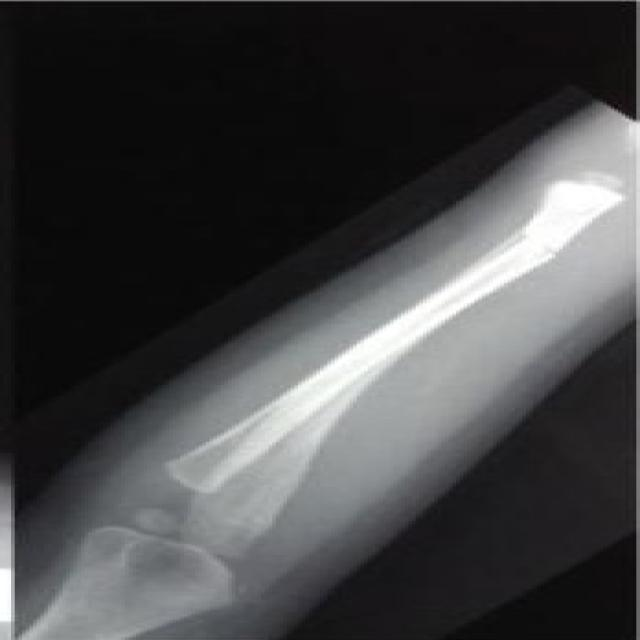Greenstick: (467, 202, 586, 280)
